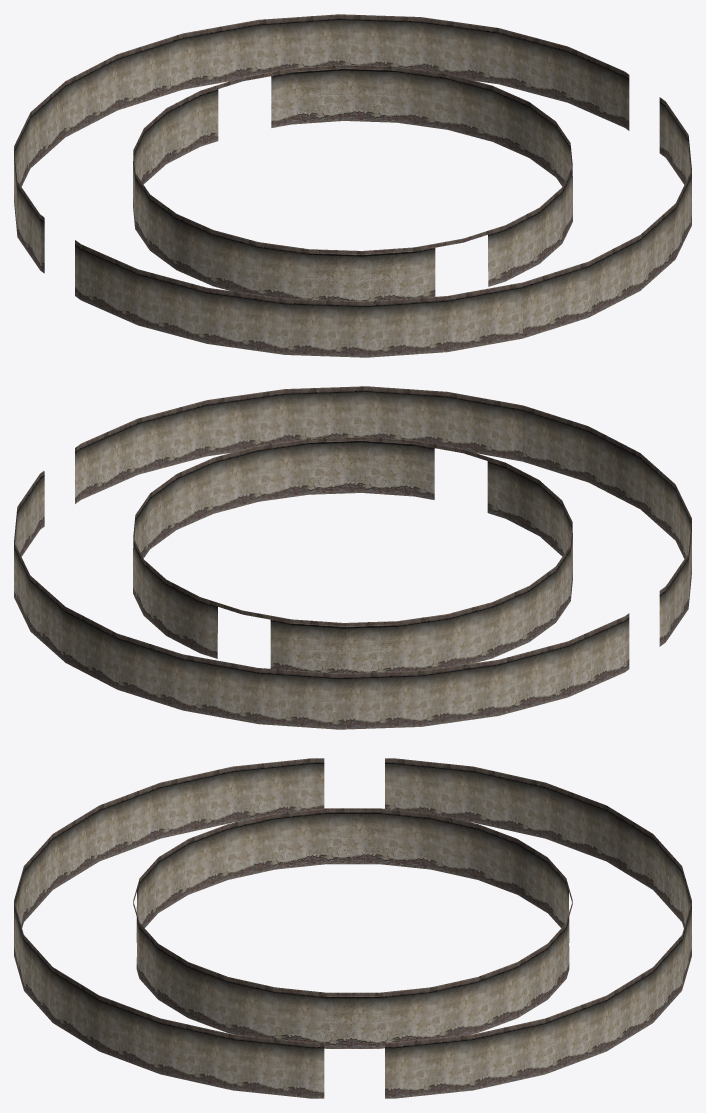
3 renders of one model, top to bottom at view 1: azimuth 30°, elevation 25°; view 2: azimuth 150°, elevation 25°; view 3: azimuth 270°, elevation 25°, orthographic.
Visible parts, largest first — view 1: Object76; view 2: Object76; view 3: Object76.
Boxes of the visible parts, <box> form: Object76: <box>14,14,691,357</box>; Object76: <box>14,386,691,729</box>; Object76: <box>14,758,691,1098</box>.
Bounding box in the file's own units: 1105 × 102 × 1113.
